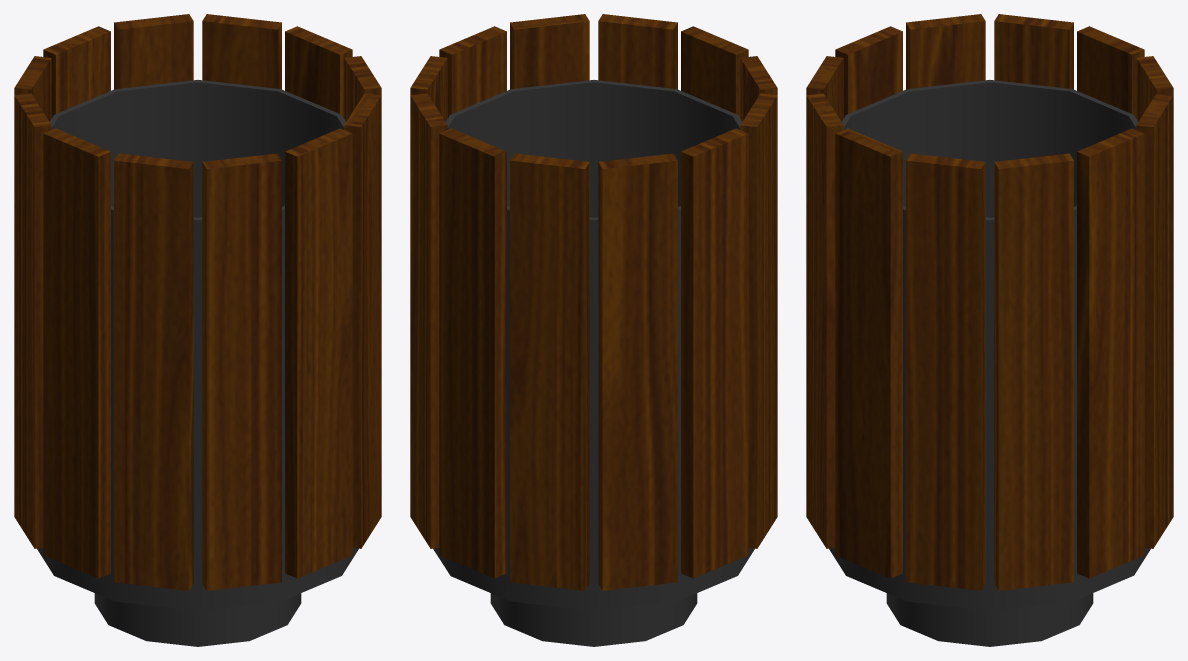
File: prop_trashcan.FBX
3 renders of one model, left to right at view 1: azimuth 30°, elevation 25°; view 2: azimuth 150°, elevation 25°; view 3: azimuth 270°, elevation 25°, orthographic.
Visible parts, largest first — view 1: Cylinder001; view 2: Cylinder001; view 3: Cylinder001.
Part boxes in pixels (box(x1,y1,x2,y2)): Cylinder001: box(14, 14, 381, 646); Cylinder001: box(410, 14, 777, 646); Cylinder001: box(806, 14, 1173, 646).
Size of the model in its own units: 20.33 by 31.26 by 20.33.
